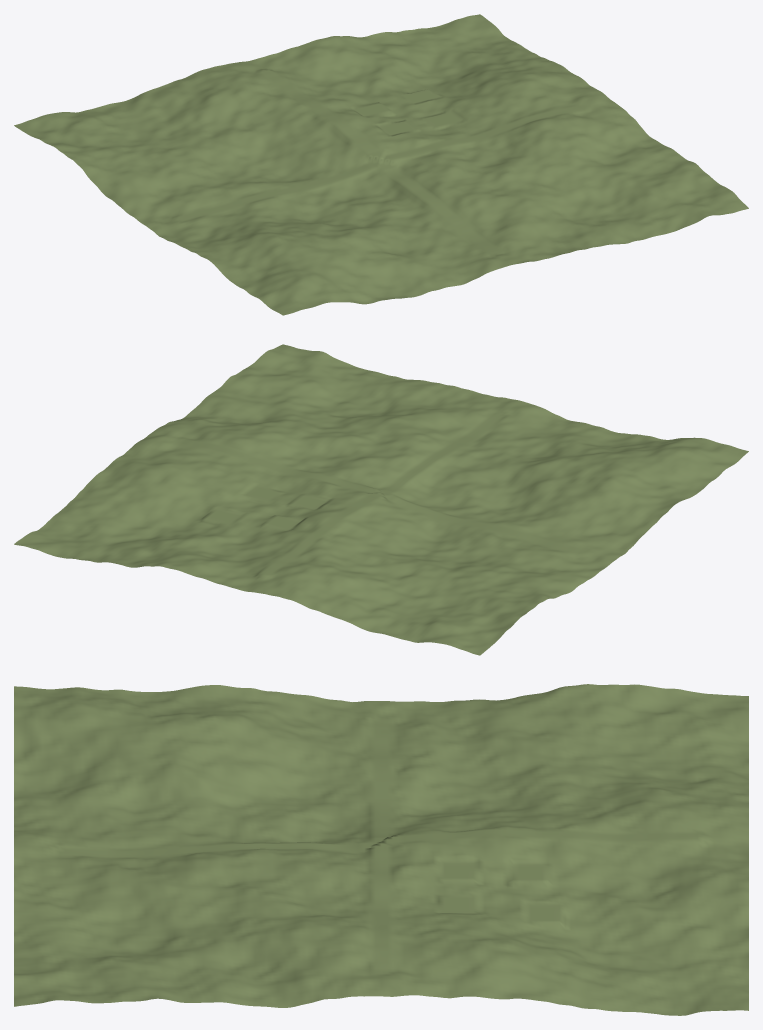
The picture shows the model from 3 angles, top to bottom: view 1: azimuth 30°, elevation 25°; view 2: azimuth 150°, elevation 25°; view 3: azimuth 270°, elevation 25°; orthographic projection. The views are drawn at different scales.
Visible parts, largest first — view 1: chunk_1_1, chunk_3_3, chunk_0_1, chunk_3_2, chunk_0_3, chunk_1_3, chunk_2_3, chunk_1_0, chunk_2_2, chunk_2_0, chunk_1_2, chunk_2_1 (+4 smaller); view 2: chunk_0_2, chunk_3_1, chunk_1_0, chunk_1_2, chunk_0_0, chunk_3_0, chunk_1_1, chunk_2_2, chunk_3_3, chunk_2_1, chunk_0_1, chunk_0_3 (+4 smaller); view 3: chunk_2_0, chunk_2_1, chunk_3_0, chunk_0_0, chunk_3_2, chunk_1_3, chunk_2_3, chunk_0_3, chunk_0_2, chunk_3_1, chunk_0_1, chunk_1_2 (+4 smaller).
Boxes of the visible parts, x1=… form: chunk_1_1: x1=198, y1=105, x2=381, y2=195; chunk_3_3: x1=565, y1=156, x2=748, y2=241; chunk_0_1: x1=81, y1=143, x2=264, y2=227; chunk_3_2: x1=498, y1=102, x2=681, y2=187; chunk_0_3: x1=215, y1=236, x2=399, y2=315; chunk_1_3: x1=333, y1=215, x2=515, y2=298; chunk_2_3: x1=449, y1=187, x2=632, y2=263; chunk_1_0: x1=131, y1=61, x2=313, y2=143; chunk_2_2: x1=381, y1=131, x2=564, y2=214; chunk_2_0: x1=247, y1=36, x2=428, y2=105; chunk_1_2: x1=265, y1=160, x2=448, y2=235; chunk_2_1: x1=314, y1=89, x2=497, y2=159; chunk_0_2: x1=498, y1=470, x2=681, y2=560; chunk_3_1: x1=81, y1=435, x2=264, y2=521; chunk_1_0: x1=247, y1=537, x2=430, y2=628; chunk_1_2: x1=382, y1=449, x2=564, y2=528; chunk_0_0: x1=363, y1=575, x2=546, y2=655; chunk_3_0: x1=14, y1=490, x2=197, y2=567; chunk_1_1: x1=314, y1=493, x2=497, y2=574; chunk_2_2: x1=265, y1=422, x2=448, y2=493; chunk_3_3: x1=216, y1=344, x2=398, y2=421; chunk_2_1: x1=198, y1=464, x2=380, y2=536; chunk_0_1: x1=431, y1=529, x2=614, y2=599; chunk_0_3: x1=565, y1=434, x2=748, y2=500; chunk_2_0: x1=565, y1=834, x2=748, y2=932; chunk_2_1: x1=381, y1=832, x2=565, y2=930; chunk_3_0: x1=565, y1=923, x2=748, y2=1015; chunk_0_0: x1=565, y1=684, x2=748, y2=776; chunk_3_2: x1=197, y1=916, x2=381, y2=1007; chunk_1_3: x1=14, y1=758, x2=197, y2=854; chunk_2_3: x1=14, y1=849, x2=197, y2=936; chunk_0_3: x1=14, y1=686, x2=197, y2=780; chunk_0_2: x1=197, y1=685, x2=381, y2=778; chunk_3_1: x1=381, y1=917, x2=565, y2=1004; chunk_0_1: x1=381, y1=686, x2=565, y2=779; chunk_1_2: x1=197, y1=762, x2=381, y2=849.
Size of the model in its own units: 512 by 23.97 by 512.
